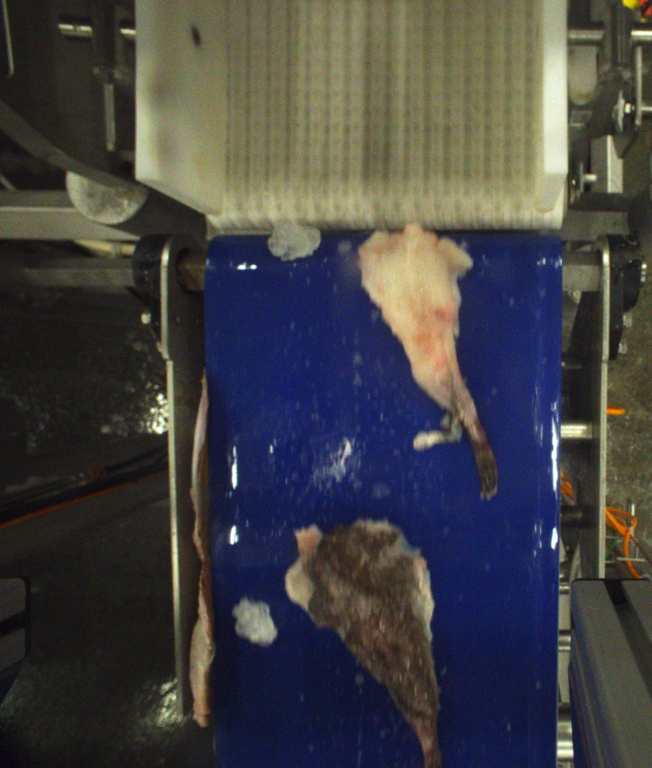ANF: (289, 521, 442, 768)
